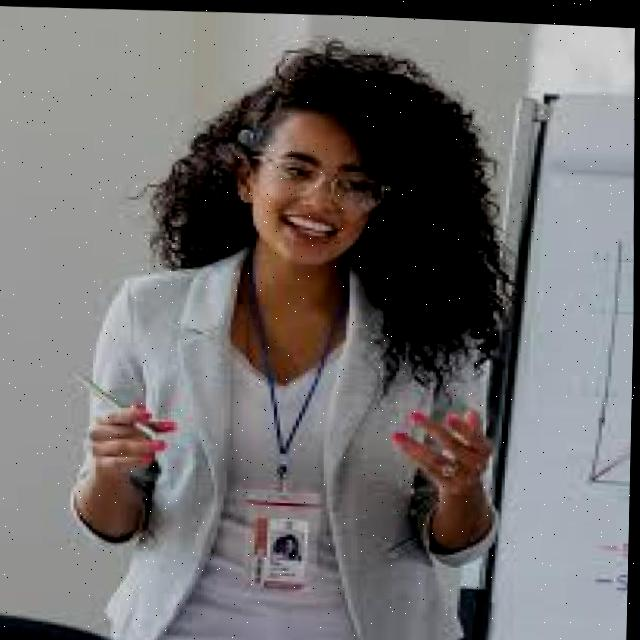id_card: (230, 263, 355, 612)
